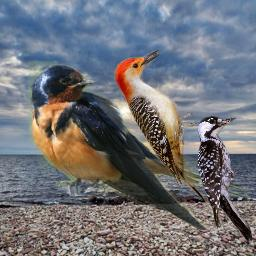Swallow: (28, 61, 251, 230)
Woodpecker: (114, 49, 208, 206), (196, 116, 252, 245)
